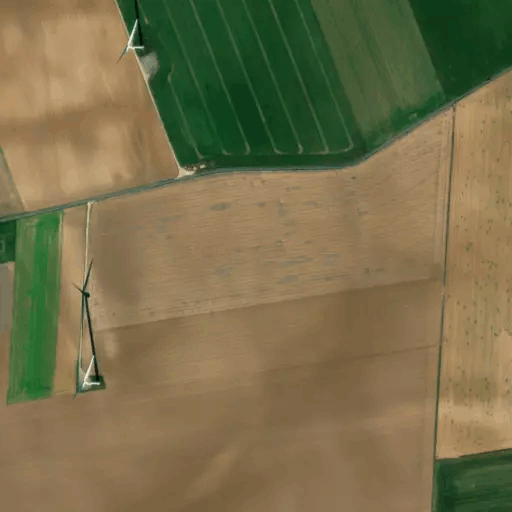wt: (58, 250, 117, 406), (112, 1, 158, 75)
